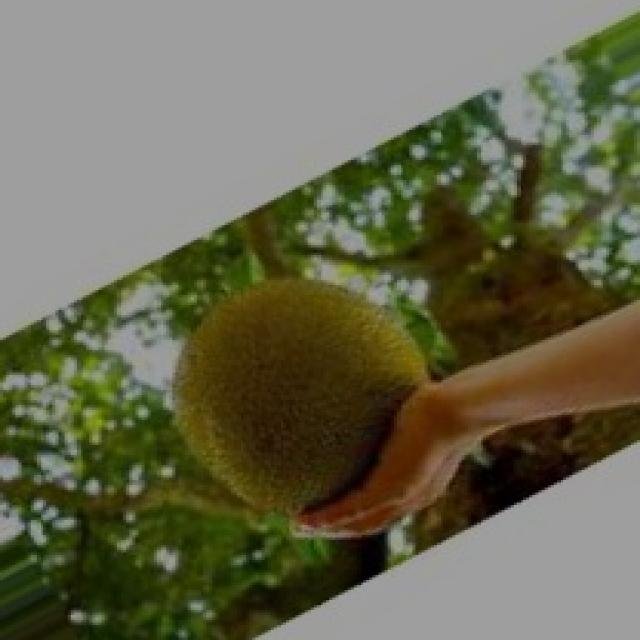Fruit: (144, 252, 458, 548)
